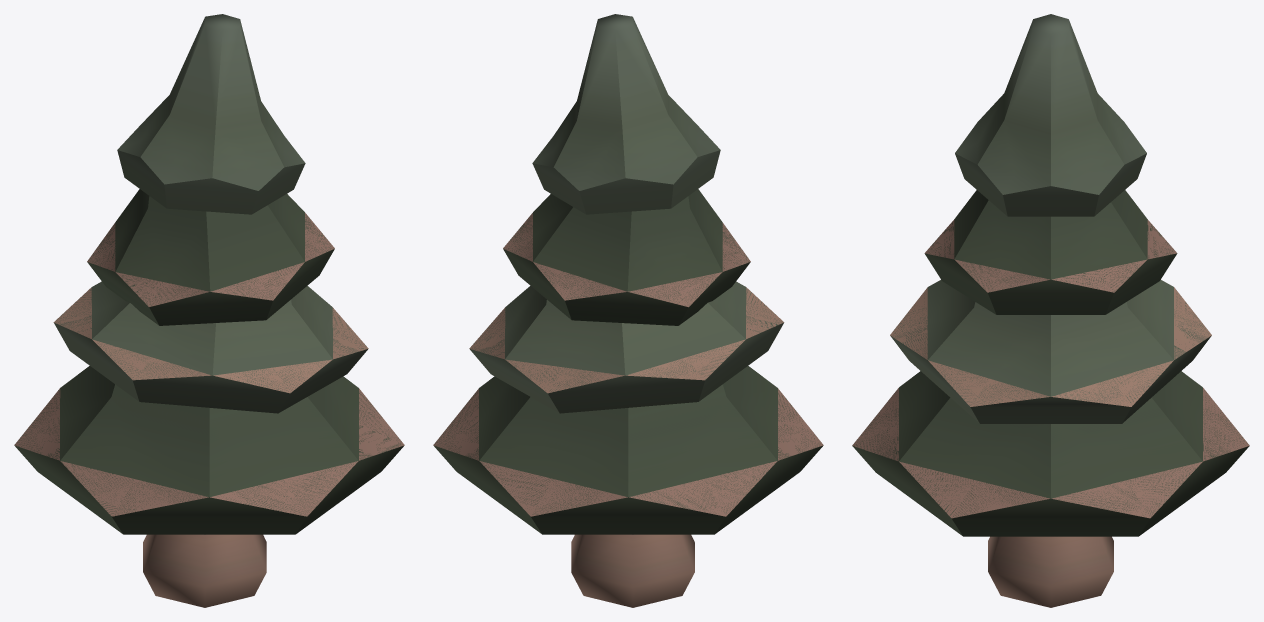
Rendered from pine-crooked.glb.
3 views of the same model, side by side, from view 1: azimuth 30°, elevation 25°; view 2: azimuth 150°, elevation 25°; view 3: azimuth 270°, elevation 25° (orthographic).
Visible parts, largest first — view 1: pine-crooked; view 2: pine-crooked; view 3: pine-crooked.
Part boxes in pixels (<box>): pine-crooked: <box>14,14,404,607</box>; pine-crooked: <box>433,14,823,607</box>; pine-crooked: <box>852,14,1249,607</box>.
Size of the model in its own units: 3.53 by 6.32 by 4.
1 material, 1 textured.
